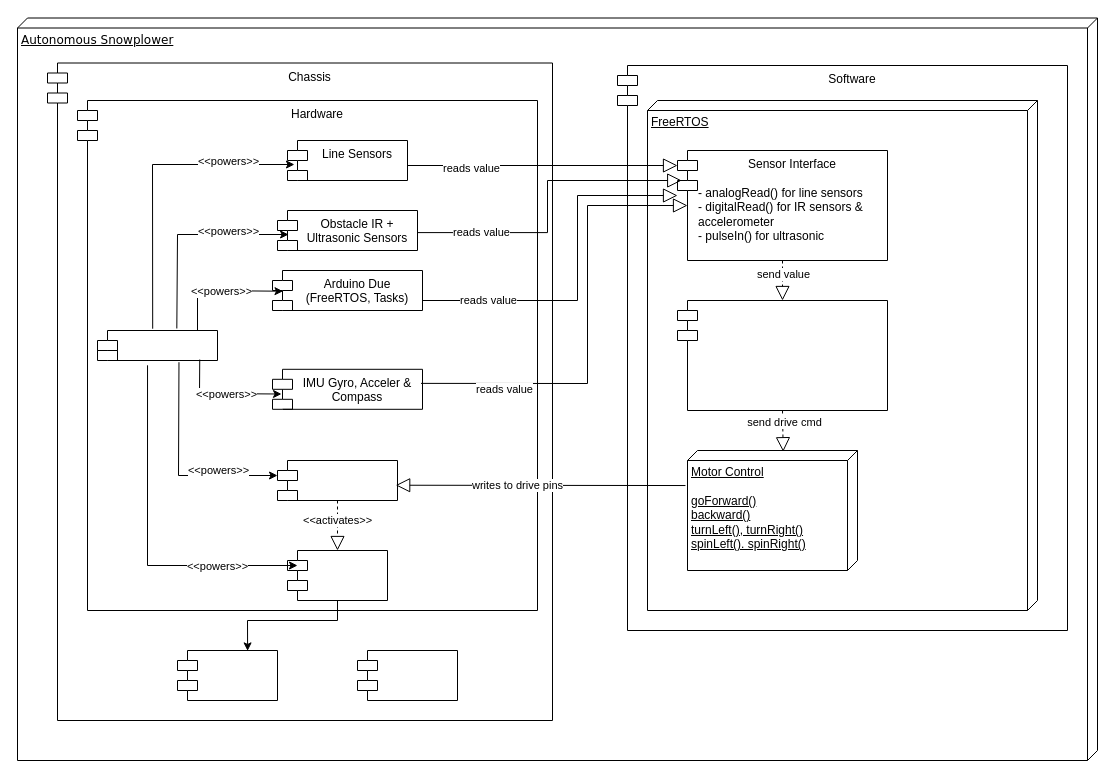
This 1115x778 diagram has some shape labels left out. Each missing label, with the centre of its shape:
Battery Pack: point (157, 345)
Motor Driver: point (337, 480)
Motors (Left & Right): point (337, 575)
Snow Plow: point (407, 675)
Tasks (separate loops) - lineTask() - obstacleTask() - motorTask() - readAcc(): point (782, 355)
Wheels: point (227, 675)
